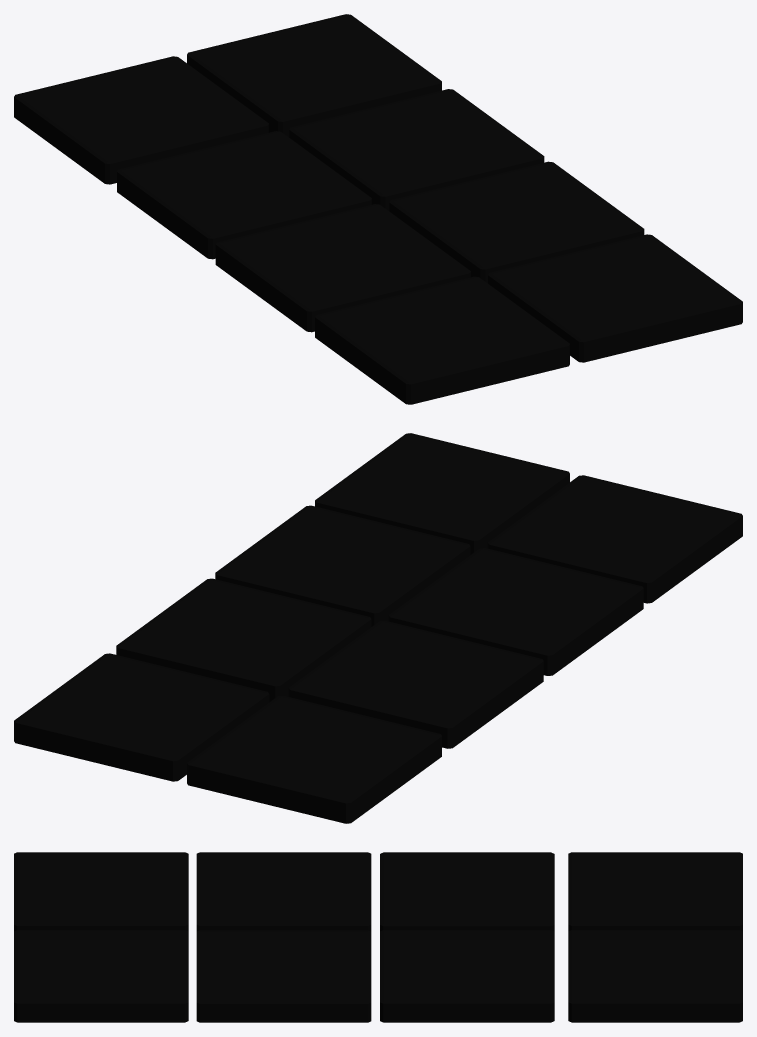
Rendered from DrumPad.fbx.
3 renders of one model, top to bottom at view 1: azimuth 30°, elevation 25°; view 2: azimuth 150°, elevation 25°; view 3: azimuth 270°, elevation 25°, orthographic. The views are drawn at different scales.
Parts seen in each view (by area): view 1: drumpad; view 2: drumpad; view 3: drumpad.
Part boxes in pixels (box(x1,y1,x2,y2)): drumpad: box(14, 14, 742, 404); drumpad: box(14, 433, 742, 823); drumpad: box(14, 852, 742, 1022).
Bounding box in the file's own units: 411 × 24.74 × 835.
9 materials, 9 textured.
